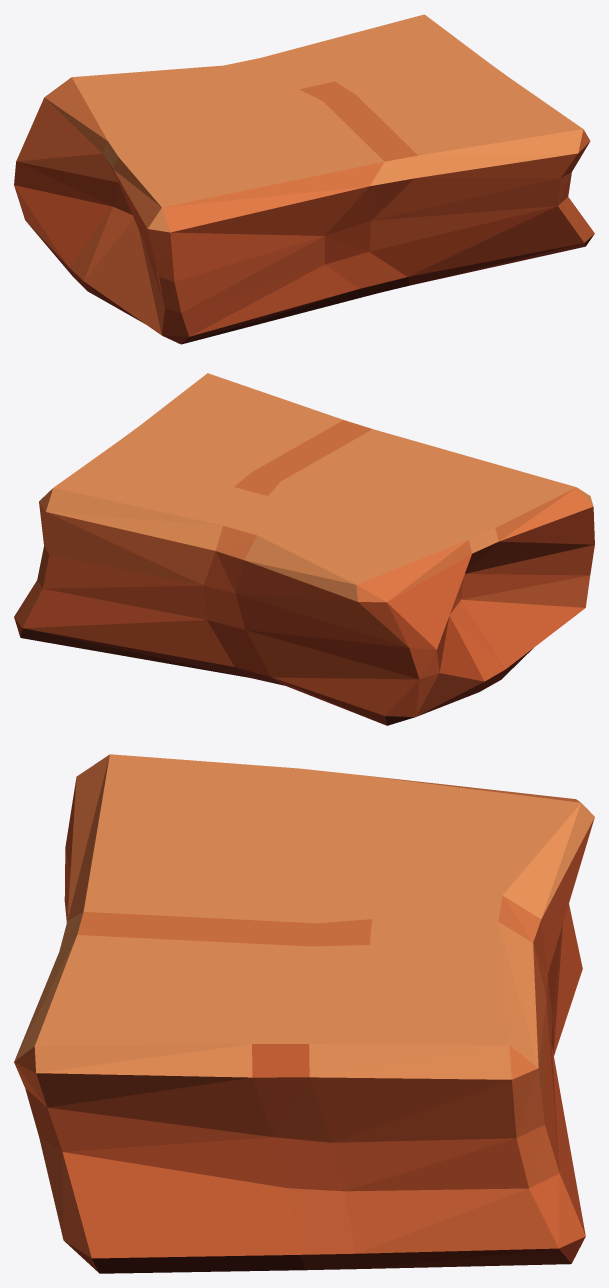
The model's file is SM_ROCK_S_07.fbx.
The picture shows the model from 3 angles, top to bottom: view 1: azimuth 30°, elevation 25°; view 2: azimuth 150°, elevation 25°; view 3: azimuth 270°, elevation 25°; orthographic projection. The views are drawn at different scales.
Parts seen in each view (by area): view 1: ROCK_S_07; view 2: ROCK_S_07; view 3: ROCK_S_07.
Part boxes in pixels (box(x1,y1,x2,y2)): ROCK_S_07: box(14, 14, 594, 344); ROCK_S_07: box(14, 373, 594, 725); ROCK_S_07: box(14, 754, 594, 1273).
Bounding box in the file's own units: 1.12 × 0.8411 × 0.3353.
